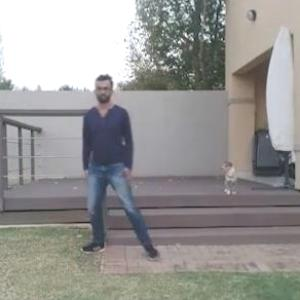follow: (80, 70, 139, 263)
